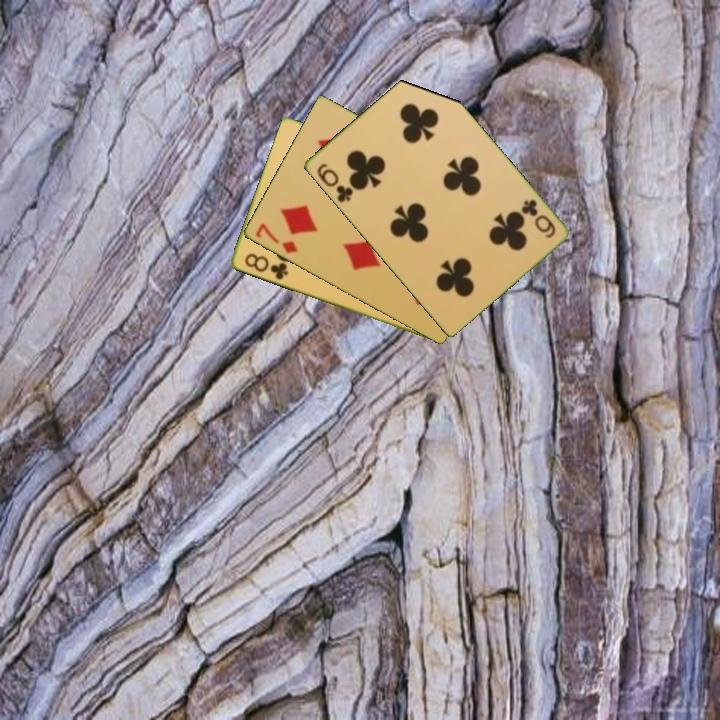6c: (313, 160, 356, 206), (517, 195, 558, 241)
7d: (251, 220, 300, 257)
8c: (241, 250, 291, 283)
